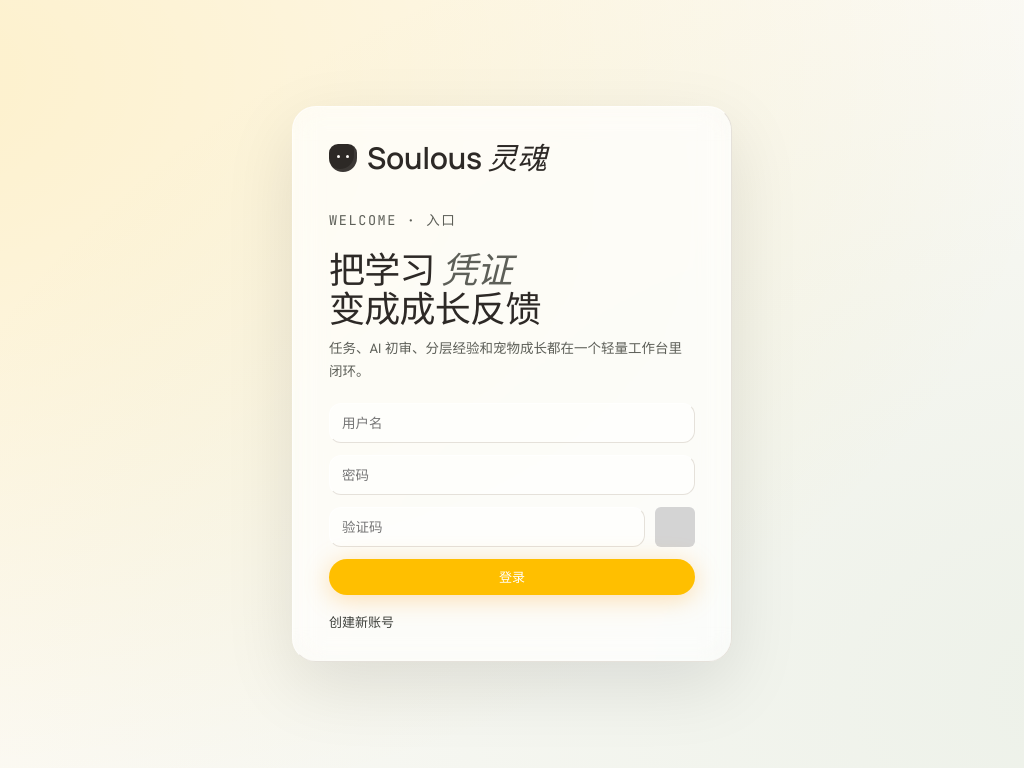
Test: AuthScreen › shows server error inline when login fails and refreshes the captcha
This screenshot has width=1024, height=768.
Type "demo" into the field with placeholder "用户名".
click(512, 423); type("demo")  # box [329, 403, 695, 443]
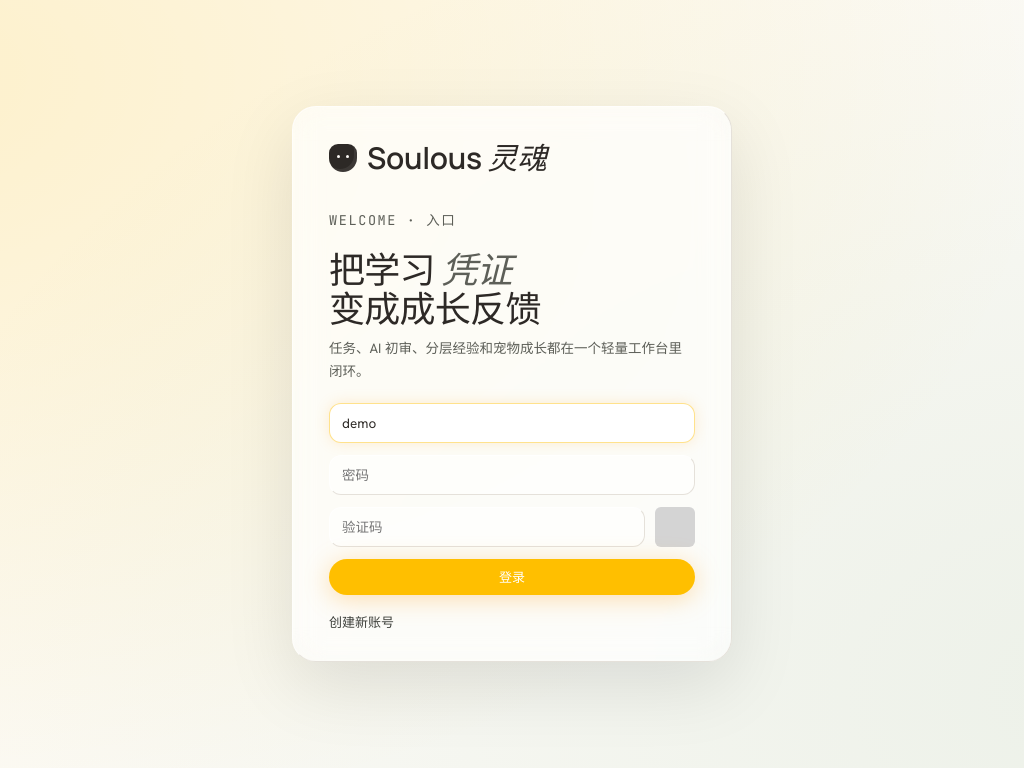
Type "wrong" into the password field with placeholder "密码".
click(512, 475); type("wrong")  # box [329, 455, 695, 495]
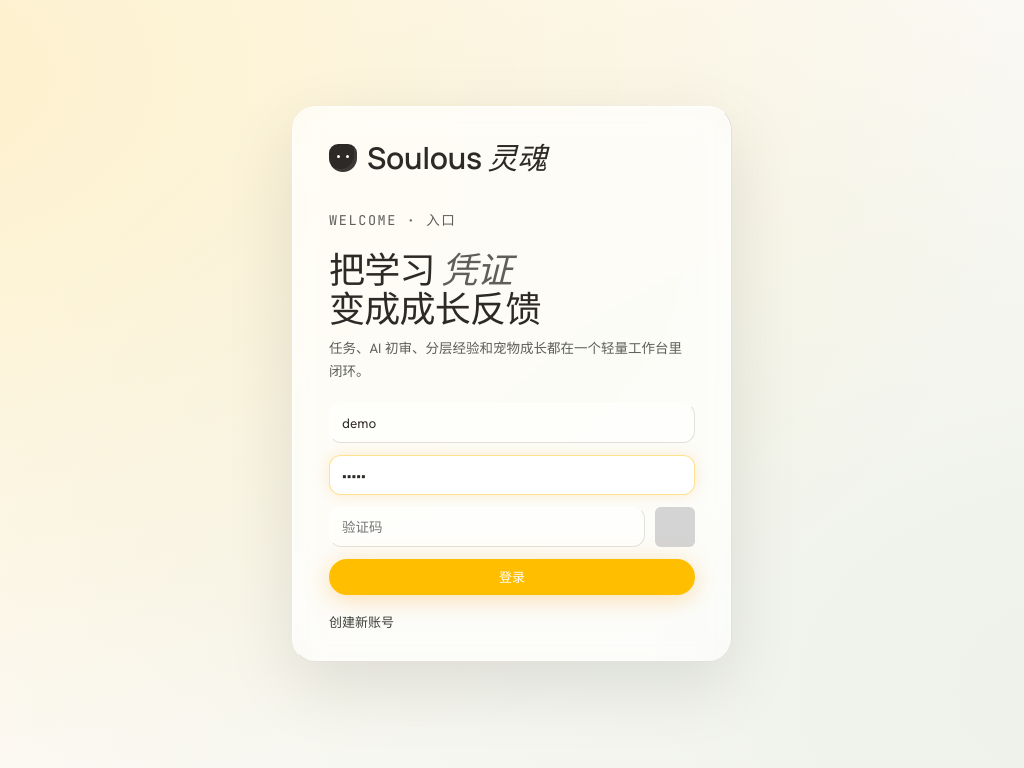
Type "ABCD" into the field labelled "验证码".
click(487, 527); type("ABCD")  # box [329, 507, 645, 547]
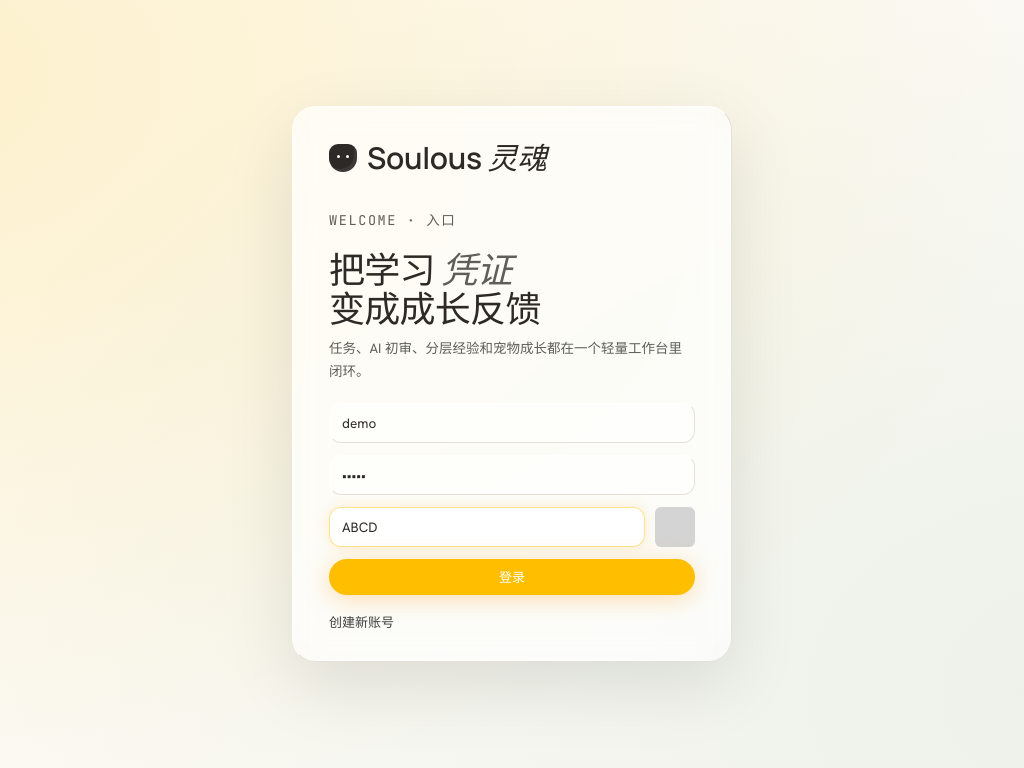
Click the button "登录".
click(512, 577)  # box [329, 559, 695, 595]
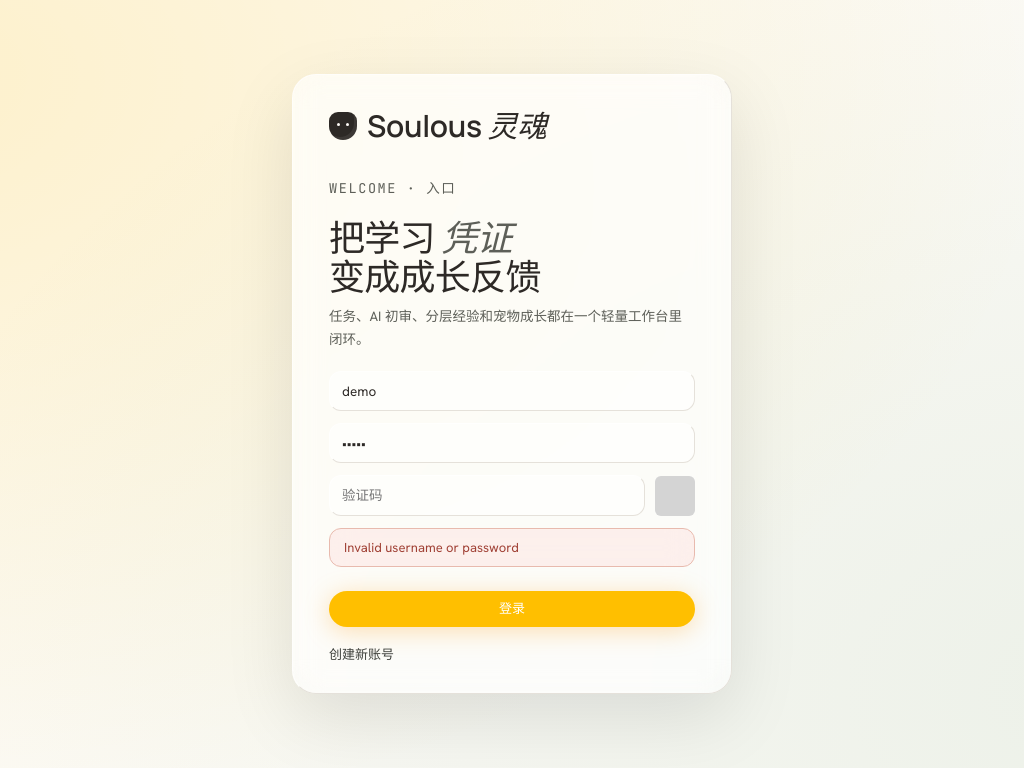
Now the text "Invalid username or password" is shown, box [329, 528, 695, 567]
